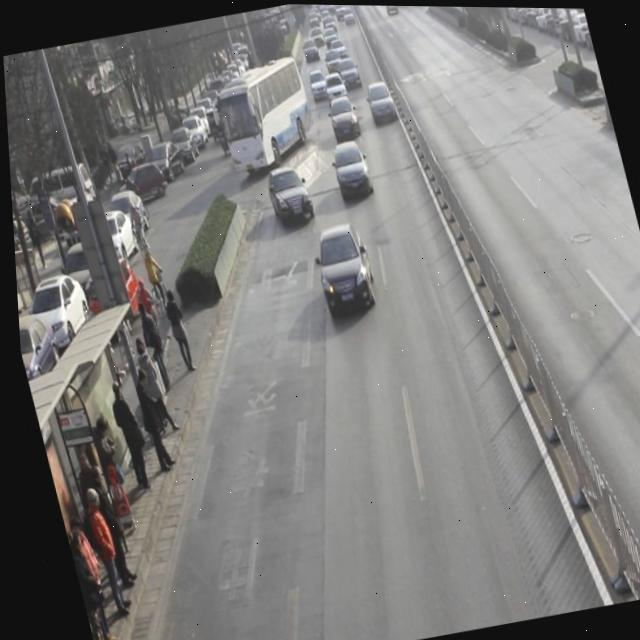car: (307, 219, 379, 316), (261, 159, 316, 227), (327, 136, 375, 201), (325, 92, 363, 141), (363, 76, 400, 126), (321, 69, 352, 108), (306, 66, 333, 103)
van: (207, 54, 320, 176)
